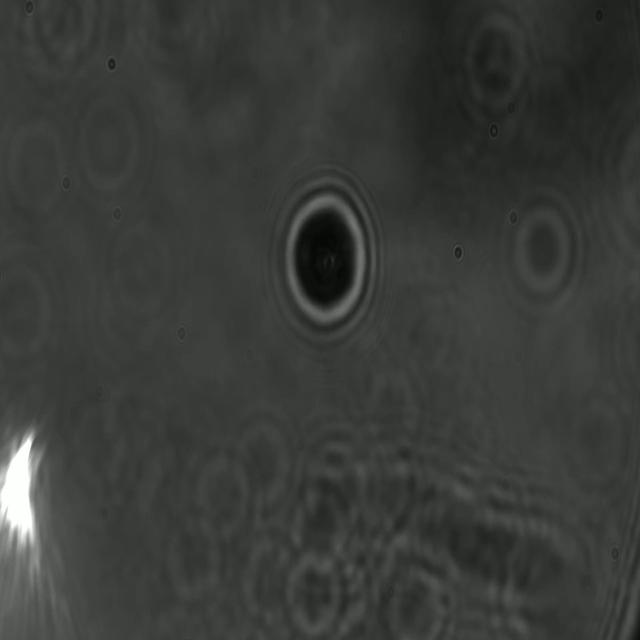DCELL: (268, 171, 382, 349)
